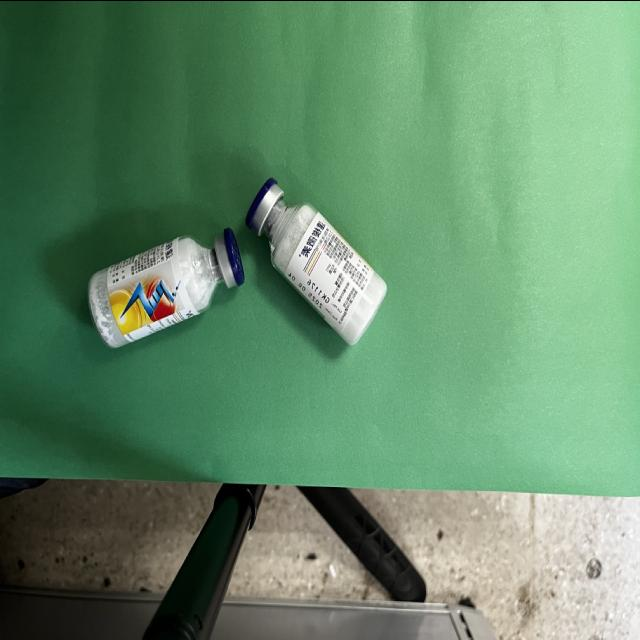Vials: (246, 178, 386, 344), (88, 228, 244, 347)
